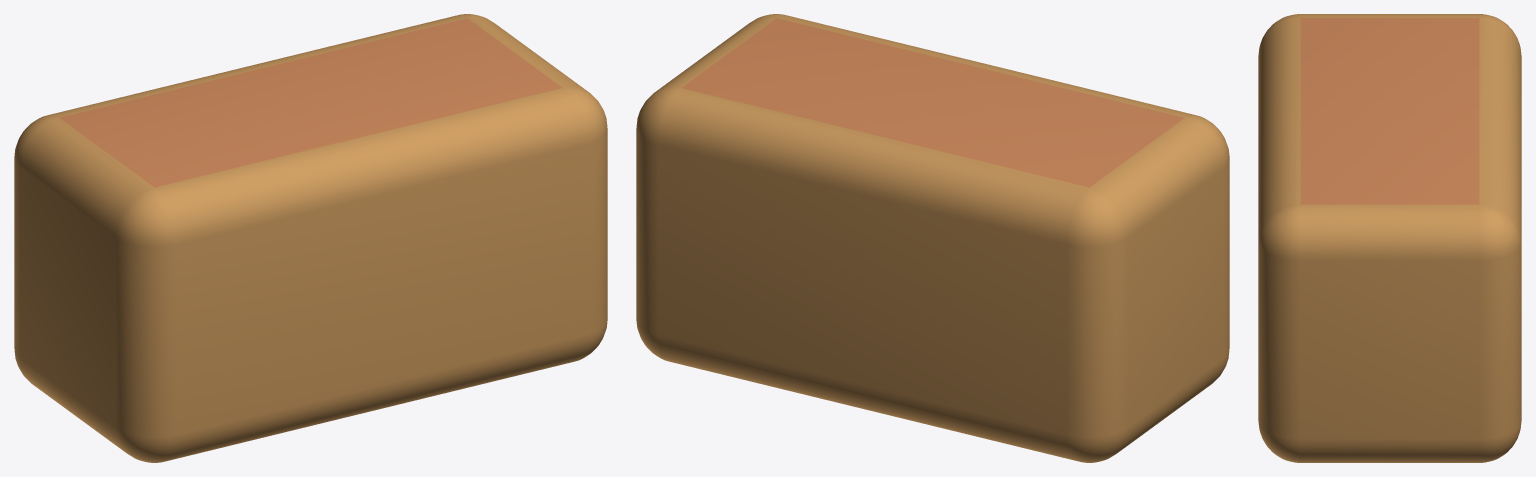
3 views of the same model, side by side, from view 1: azimuth 30°, elevation 25°; view 2: azimuth 150°, elevation 25°; view 3: azimuth 270°, elevation 25° (orthographic). The views are drawn at different scales.
Parts seen in each view (by area): view 1: Cube; view 2: Cube; view 3: Cube.
Boxes of the visible parts, left/top/right/bottom form: Cube: left=14, top=14, right=607, bottom=462; Cube: left=636, top=14, right=1229, bottom=462; Cube: left=1258, top=14, right=1521, bottom=462.
Bounding box in the file's own units: 400 × 213 × 200.
